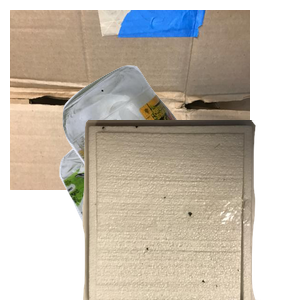cardboard: (10, 10, 250, 190)
glass: (60, 63, 300, 243)
plastic: (57, 120, 293, 300)
trash: (80, 120, 300, 300)
